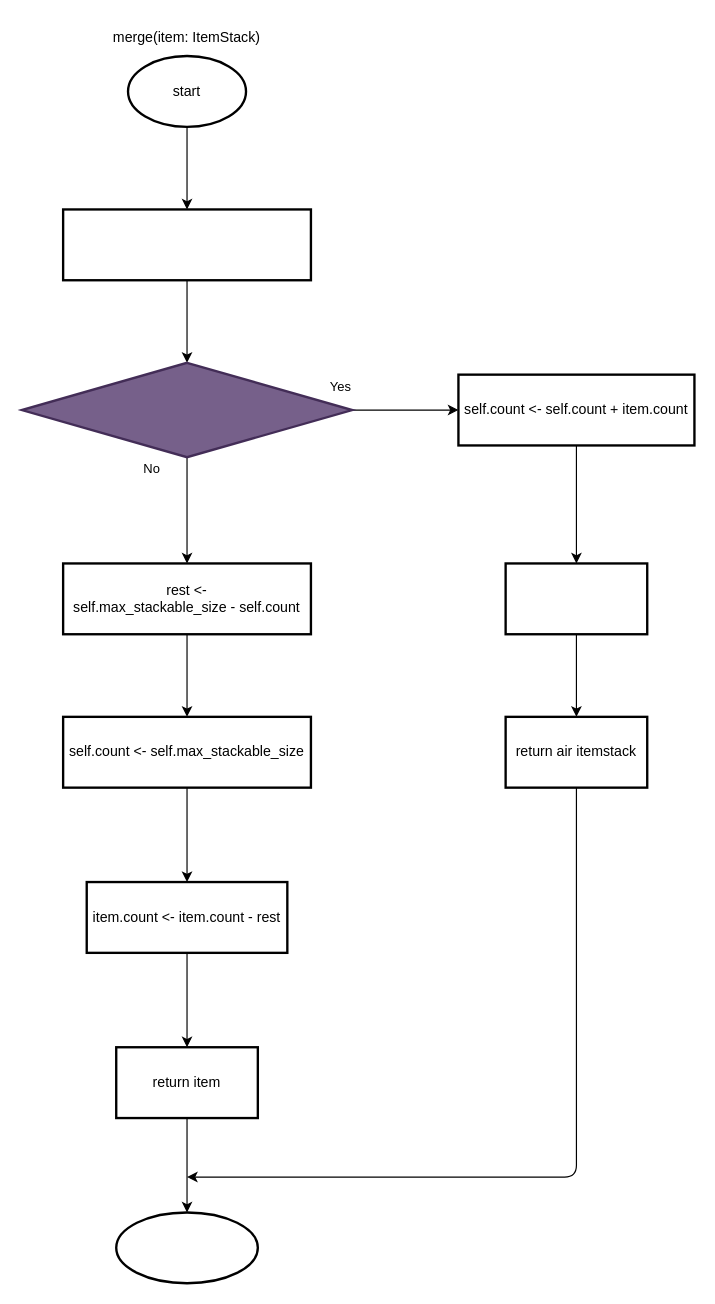
Some shapes in this 715 by 1304 pixel diagram are drawn without their labels. Here are the shapes that lost their labels. From the top down, the box of each, then its label:
(61, 208, 312, 281): total_size <- self.count + item.count
(20, 361, 353, 458): total_size <= self.max_stackable_size
(504, 562, 648, 635): item.count <- 0
(114, 1211, 258, 1284): end
